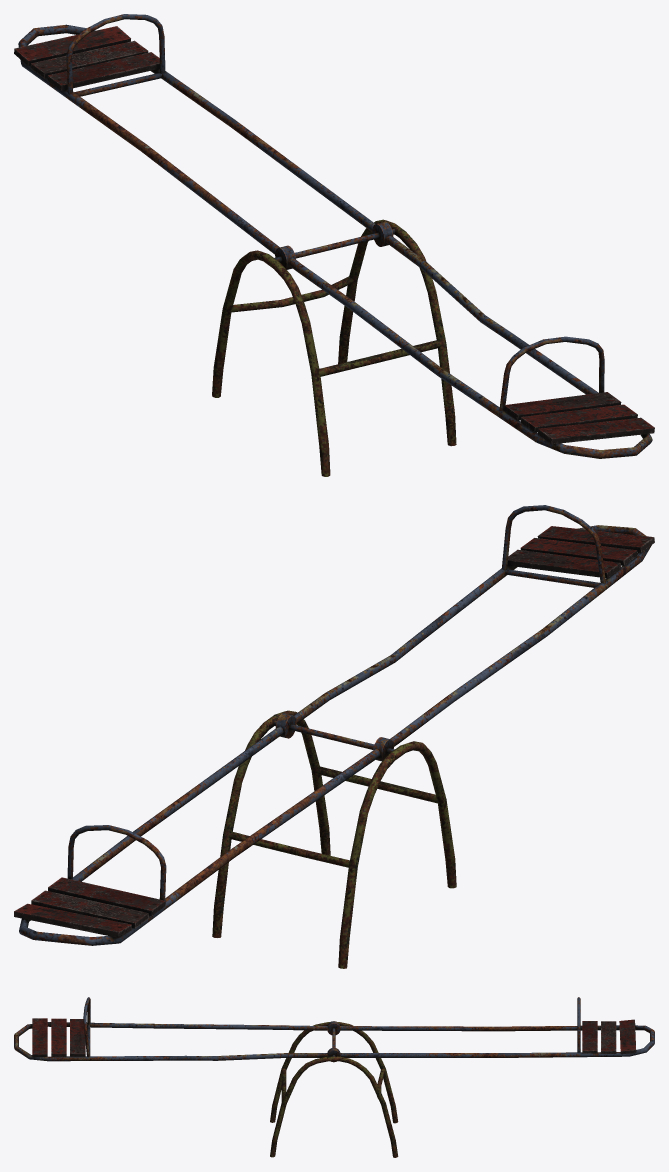
Rendered from CPG_05.fbx.
3 views of the same model, one above another, from view 1: azimuth 30°, elevation 25°; view 2: azimuth 150°, elevation 25°; view 3: azimuth 270°, elevation 25° (orthographic). The views are drawn at different scales.
Visible parts, largest first — view 1: CPG_05_Detail, CPG_05; view 2: CPG_05_Detail, CPG_05; view 3: CPG_05_Detail, CPG_05.
Part boxes in pixels (<box>): CPG_05_Detail: <box>14,14,654,458</box>; CPG_05: <box>212,219,456,476</box>; CPG_05_Detail: <box>14,505,654,945</box>; CPG_05: <box>212,710,456,968</box>; CPG_05_Detail: <box>14,997,654,1062</box>; CPG_05: <box>270,1022,398,1157</box>.
Bounding box in the file's own units: 51.68 × 89.22 × 377.
